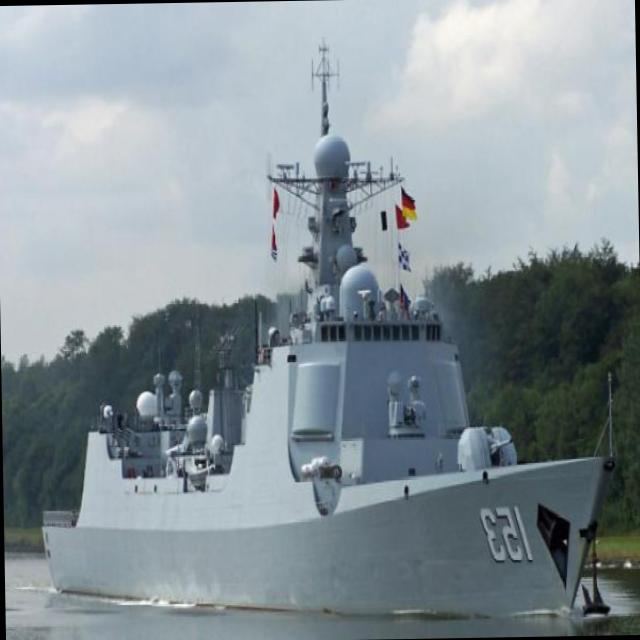Military: (39, 45, 618, 617)
